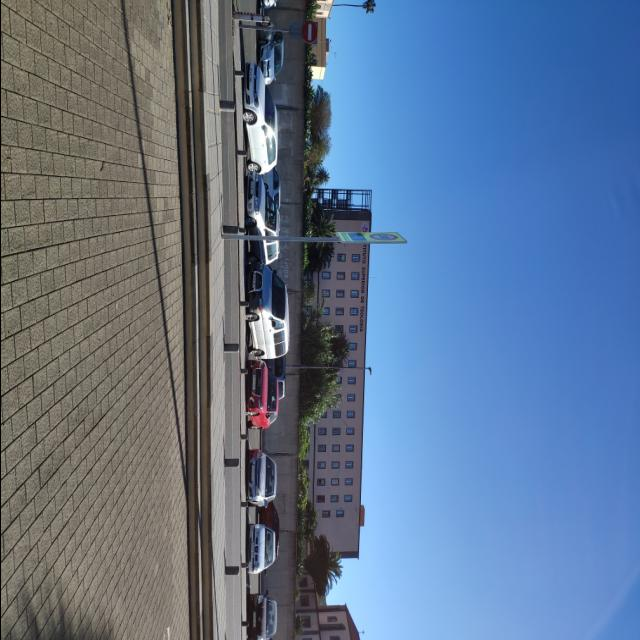Palm-Trees: (331, 0, 377, 16), (314, 165, 331, 188)
